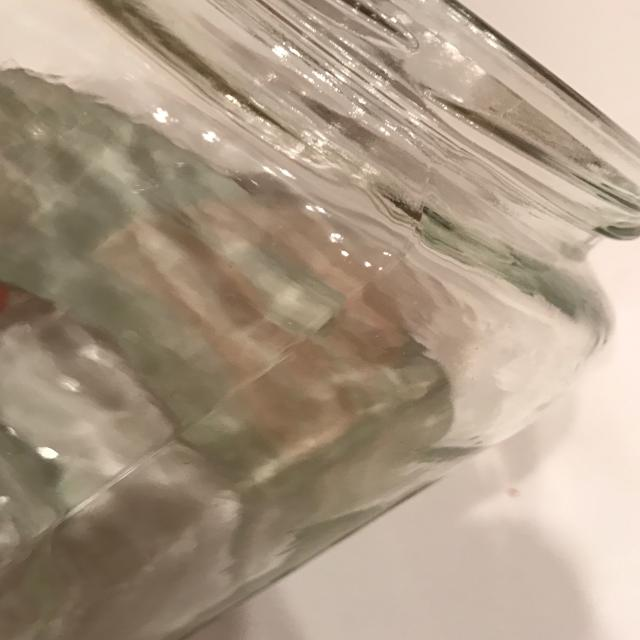glass: (1, 0, 638, 639)
